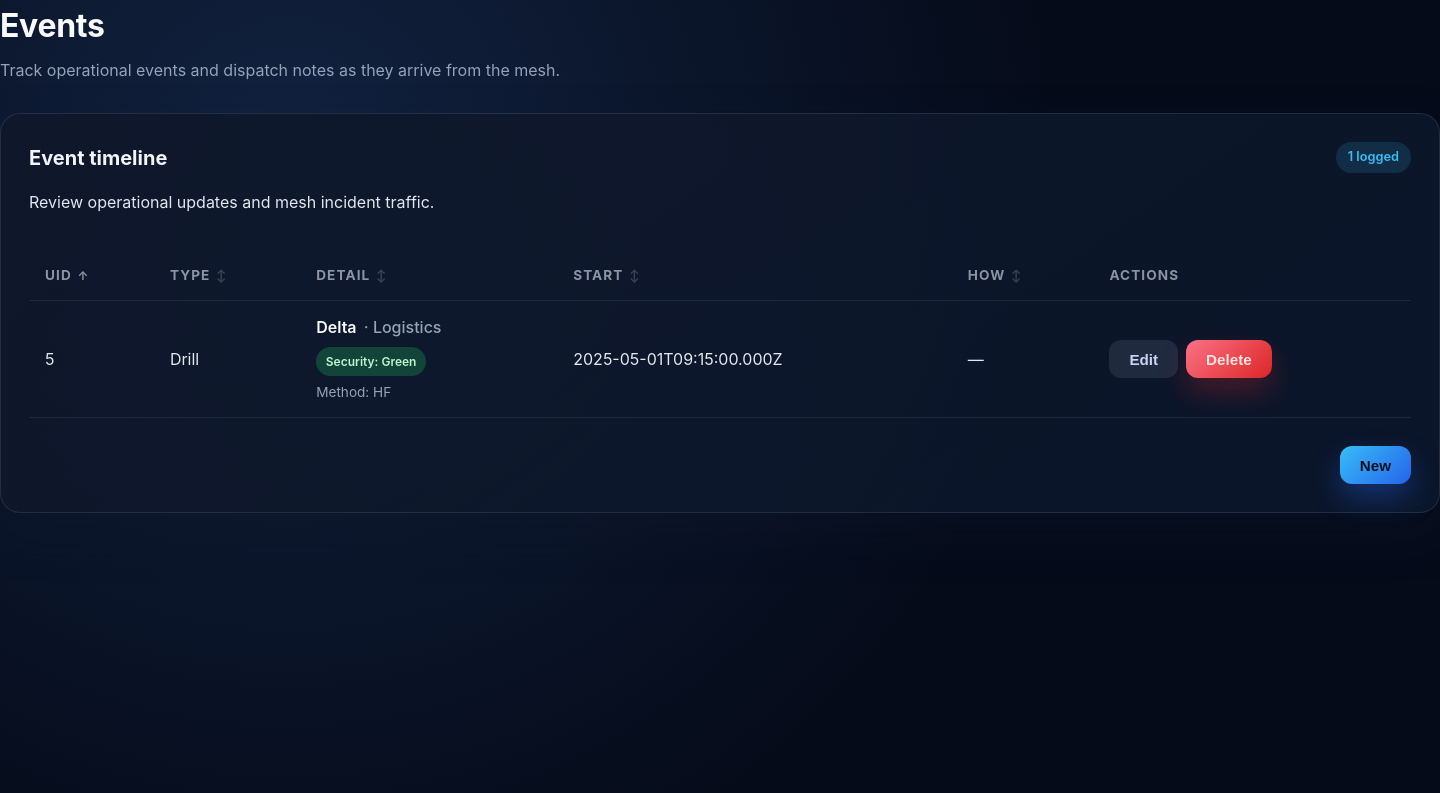
Test: EventsPage › prefills date/time and access inputs when editing an event
Check: the text "Drill" is shown, box [154,301,300,418]
Click the button "Edit" at coordinates (1144, 359), box [1109,340,1178,378]
(page scrolled)
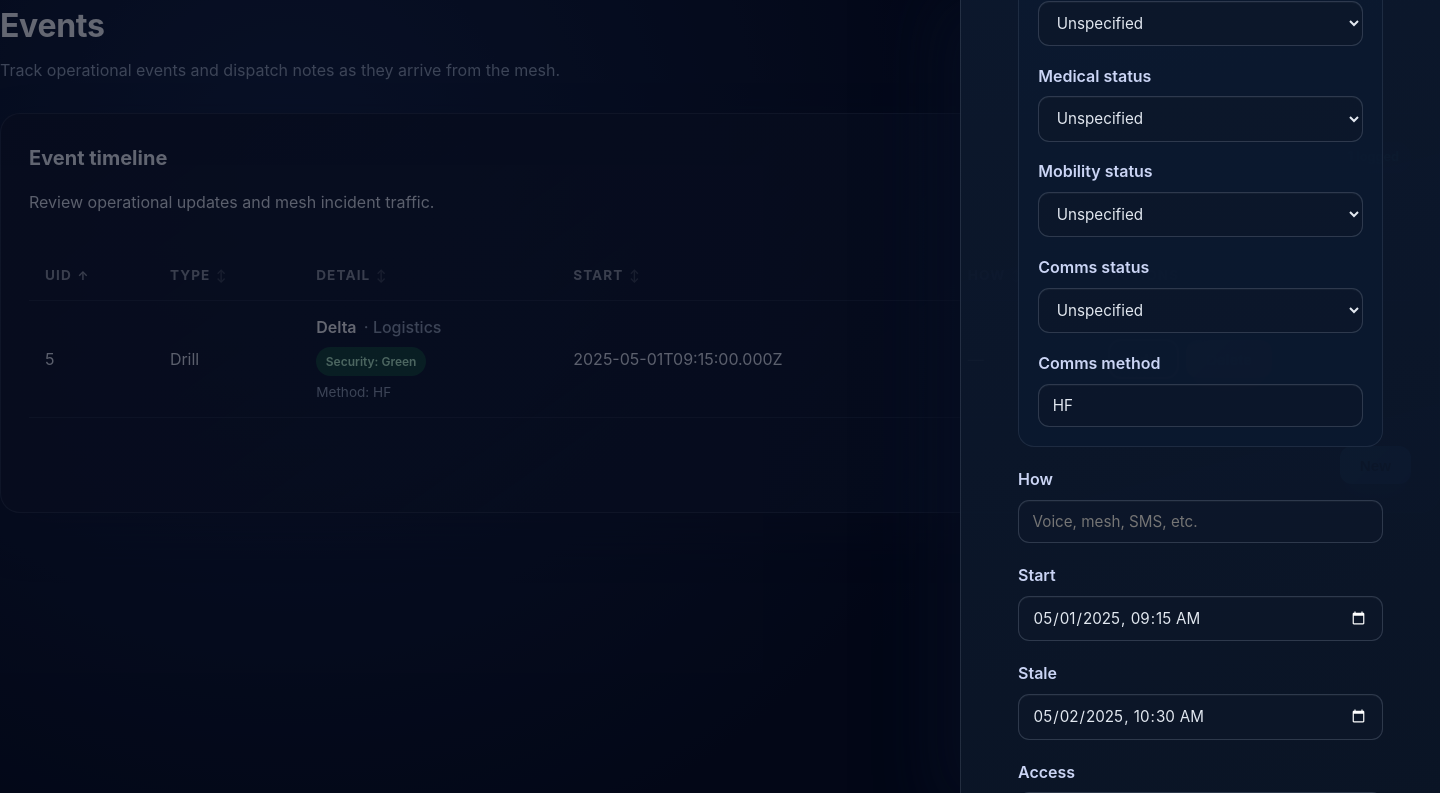
Check: the field labelled "Start" holds "2025-05-01T09:15", box [1018,596,1383,641]
Check: the field labelled "Stale" holds "2025-05-02T10:30", box [1018,694,1383,740]
Check: the field labelled "Comms method" holds "HF", box [1038,384,1363,427]
